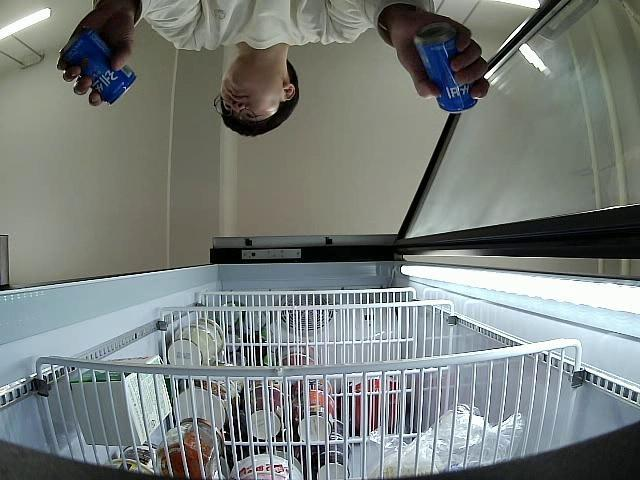15_letsbe: (414, 20, 480, 112), (60, 26, 136, 104)
